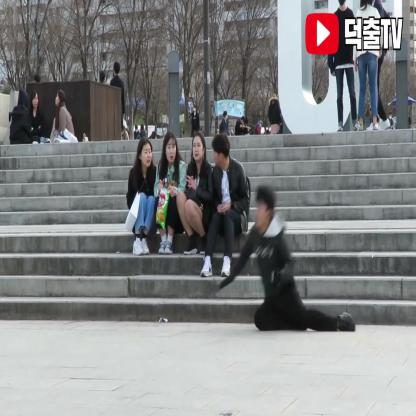Fall_Down: (216, 182, 360, 337)
